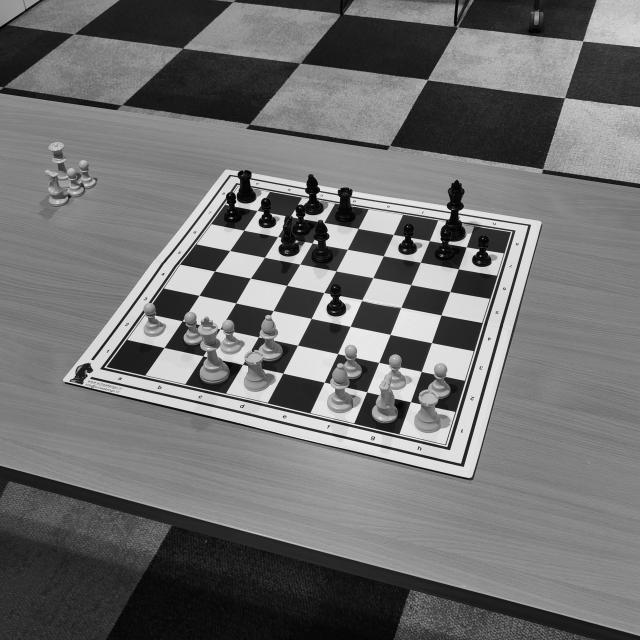chessboard: (107, 184, 513, 446)
